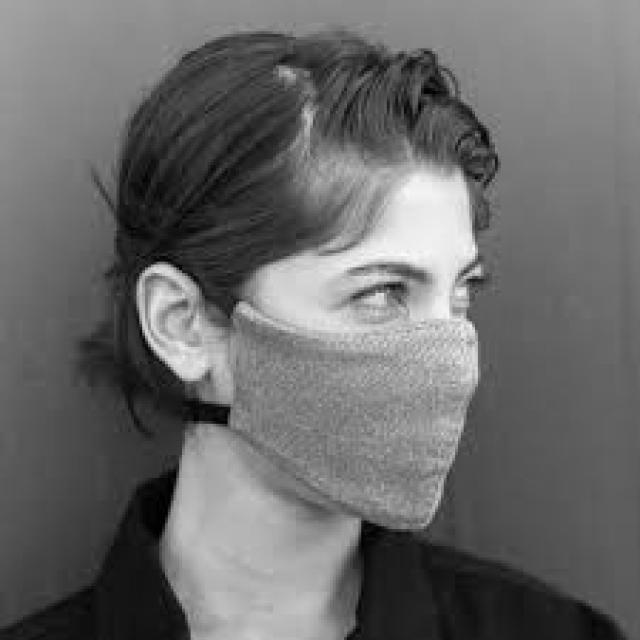fake: (221, 306, 484, 528)
real: (227, 165, 487, 539)
